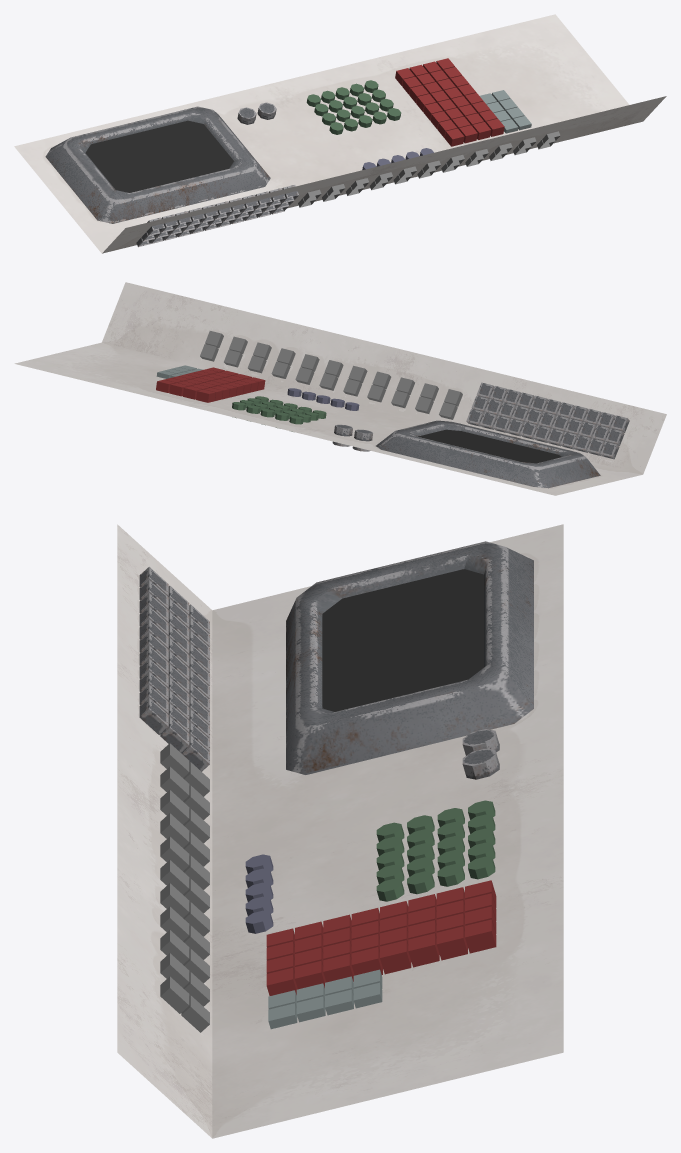
Rendered from PF_StrgConsCuby.fbx.
3 renders of one model, top to bottom at view 1: azimuth 30°, elevation 25°; view 2: azimuth 150°, elevation 25°; view 3: azimuth 270°, elevation 25°, orthographic. The views are drawn at different scales.
Visible parts, largest first — view 1: SM_StrgConsCuby, Cube_015, Cube_024, Cube_026, Cylinder_032, Cube_027, Cube_025, Cylinder_026, Cylinder_033; view 2: SM_StrgConsCuby, Cube_015, Cube_026, Cube_027, Cube_024, Cylinder_032, Cylinder_033, Cylinder_026, Cube_025; view 3: SM_StrgConsCuby, Cube_015, Cube_024, Cube_027, Cube_026, Cylinder_032, Cube_025, Cylinder_033, Cylinder_026.
Part boxes in pixels (left/top/right/bottom): SM_StrgConsCuby: left=14, top=14, right=666, bottom=253; Cube_015: left=45, top=106, right=270, bottom=223; Cube_024: left=395, top=58, right=504, bottom=146; Cube_026: left=136, top=185, right=298, bottom=247; Cylinder_032: left=306, top=80, right=401, bottom=134; Cube_027: left=298, top=131, right=560, bottom=207; Cube_025: left=480, top=90, right=531, bottom=133; Cylinder_026: left=237, top=102, right=276, bottom=124; Cylinder_033: left=362, top=148, right=433, bottom=169; SM_StrgConsCuby: left=14, top=282, right=666, bottom=495; Cube_015: left=376, top=420, right=600, bottom=488; Cube_026: left=466, top=382, right=629, bottom=459; Cube_027: left=200, top=331, right=462, bottom=419; Cube_024: left=156, top=367, right=265, bottom=402; Cylinder_032: left=232, top=396, right=326, bottom=431; Cylinder_033: left=287, top=388, right=359, bottom=410; Cylinder_026: left=332, top=424, right=372, bottom=451; Cube_025: left=156, top=365, right=203, bottom=378; SM_StrgConsCuby: left=117, top=524, right=563, bottom=1138; Cube_015: left=286, top=541, right=533, bottom=774; Cube_024: left=266, top=880, right=496, bottom=995; Cube_027: left=160, top=743, right=209, bottom=1032; Cube_026: left=139, top=567, right=209, bottom=771; Cylinder_032: left=376, top=800, right=495, bottom=901; Cube_025: left=268, top=969, right=382, bottom=1029; Cylinder_033: left=245, top=854, right=273, bottom=933; Cylinder_026: left=462, top=729, right=499, bottom=779.
Bounding box in the file's own units: 182 × 17.6 × 64.8.
Materials: 1 (1 with a texture image).
